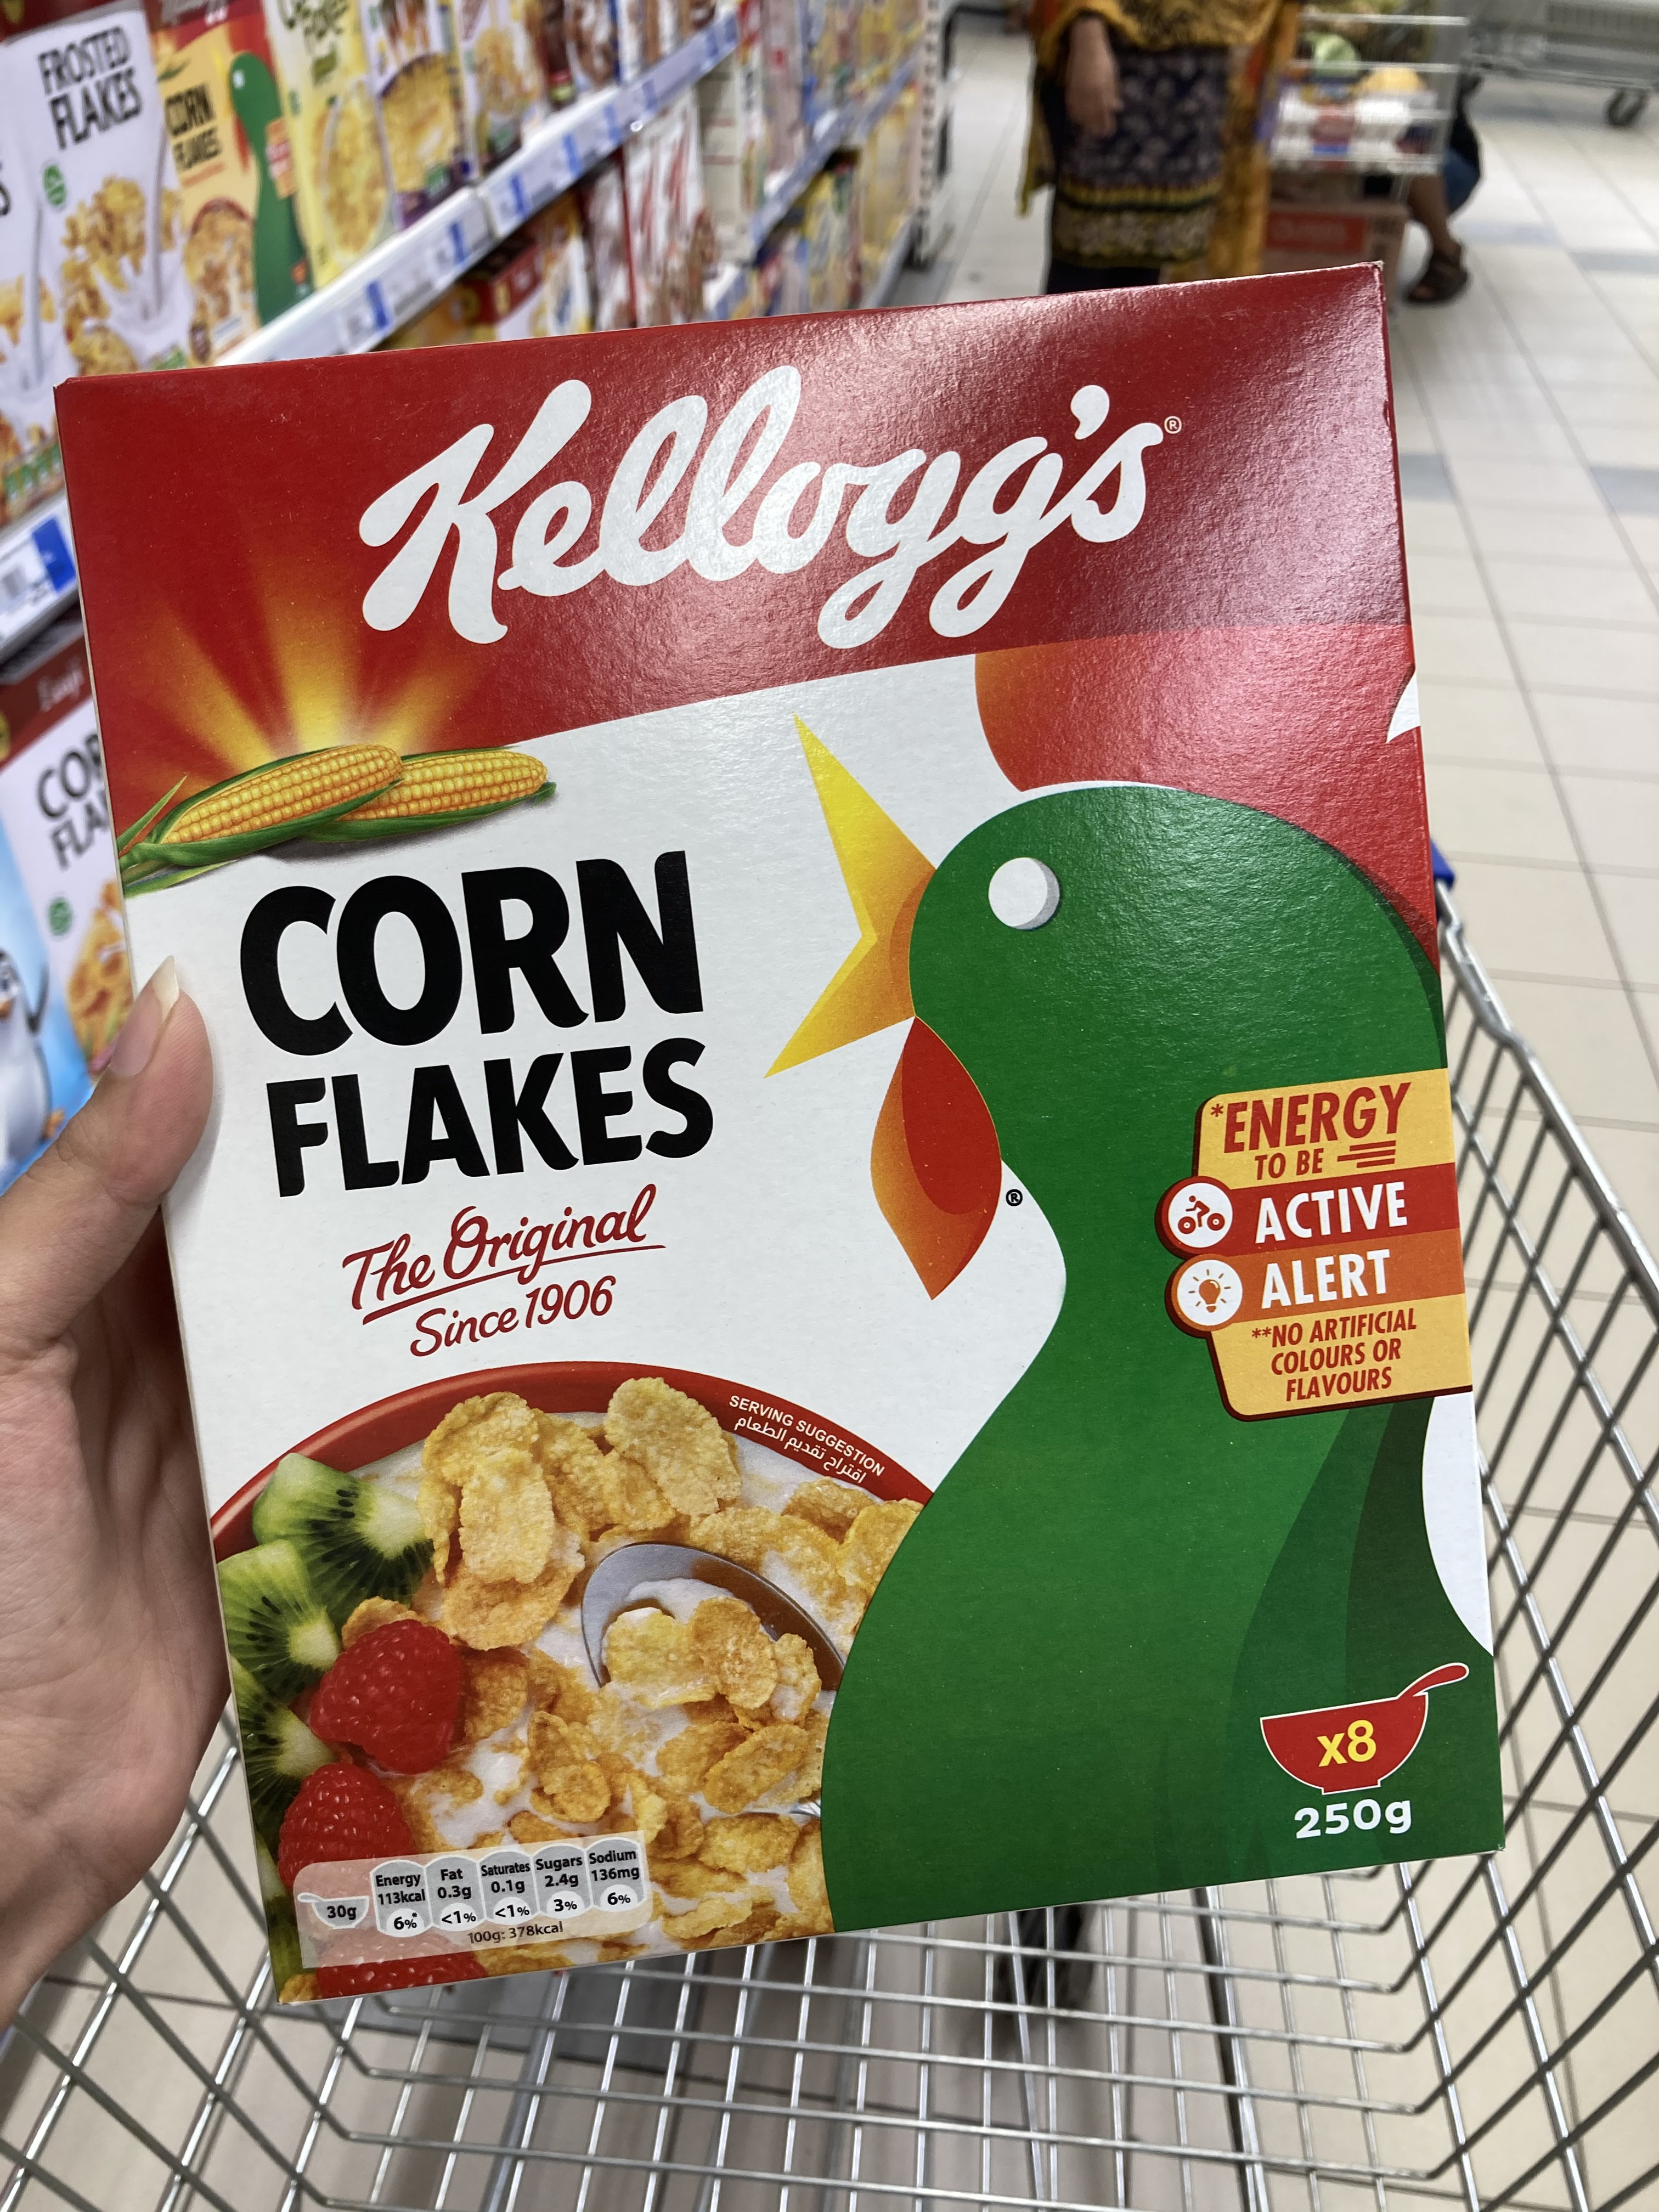Kellogg's Corn Flakes: (49, 253, 1506, 2001)
